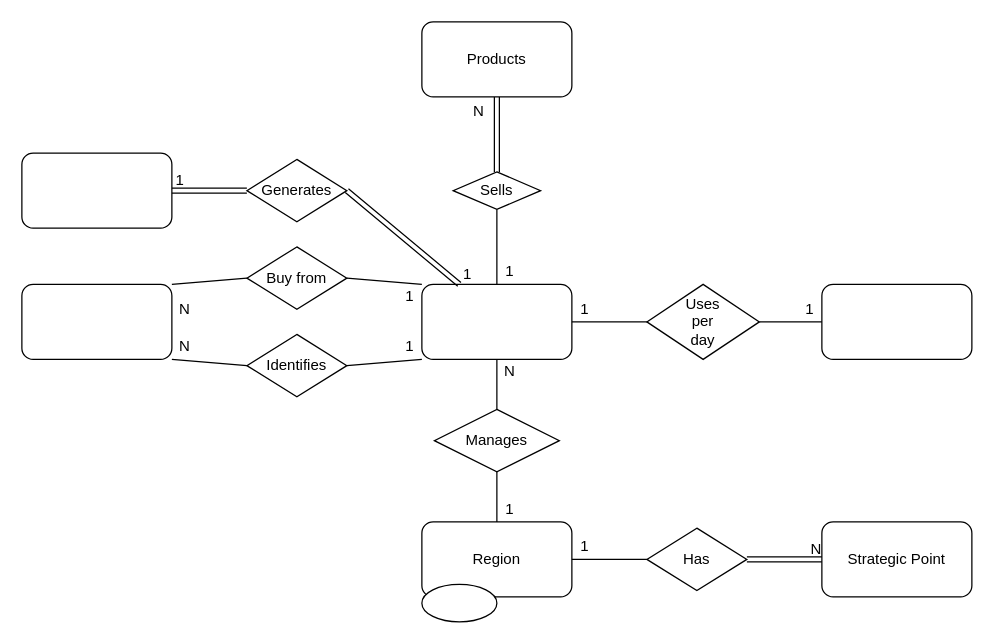
This 994x644 diagram has some shape labels left out. The centre of each missing label's shape, as x and y in pixels:
"Client" belongs at pixel 96 321.
"Code" belongs at pixel 459 602.
"Receipt" belongs at pixel 96 190.
"Seller" belongs at pixel 496 321.
"Vehicle" belongs at pixel 896 321.
